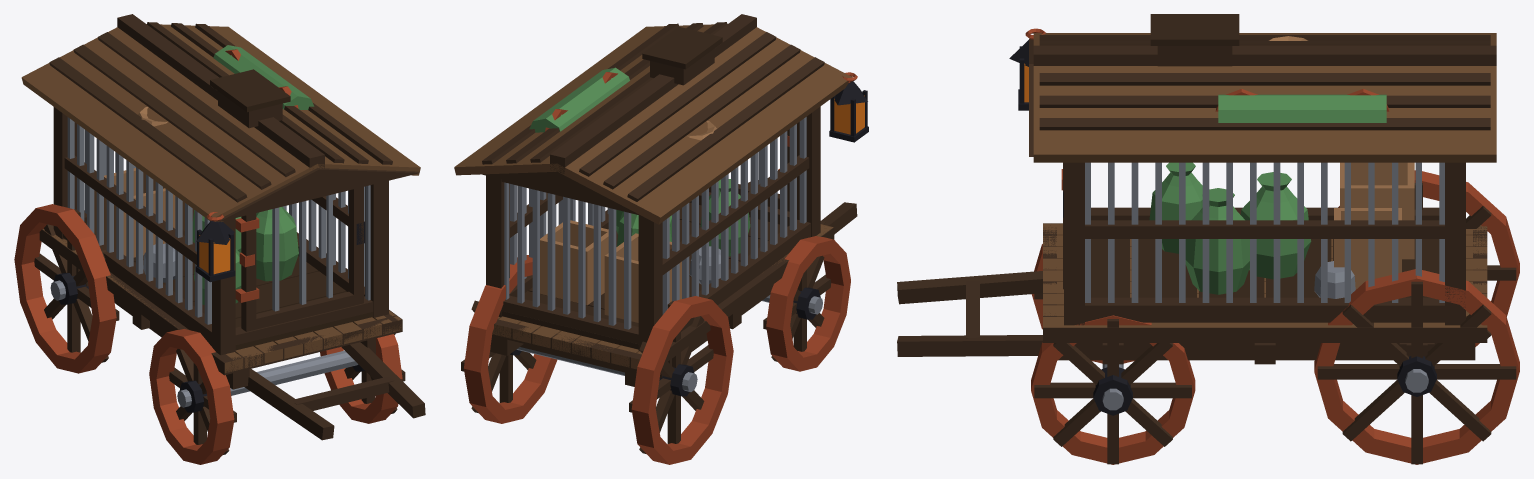
The model's file is wagon.glb.
3 renders of one model, left to right at view 1: azimuth 30°, elevation 25°; view 2: azimuth 150°, elevation 25°; view 3: azimuth 270°, elevation 25°, orthographic. The views are drawn at different scales.
Visible parts, largest first — view 1: cagewagon.cage.roof.panels, cagewagon.wheels.tyres, cagewagon.cage.frame.timber, cagewagon.cage.bars, cagewagon.cage.roof.battens, cagewagon.shafts.poles, cagewagon.cage.door.frame, cagewagon.wheels.spokes, cagewagon.chassis.edge, cagewagon.cage.roof.ridge, cagewagon.cage.floor, cagewagon.cage.roof.gables (+13 smaller); view 2: cagewagon.cage.roof.panels, cagewagon.wheels.tyres, cagewagon.cage.bars, cagewagon.cage.frame.timber, cagewagon.cage.roof.battens, cagewagon.wheels.spokes, cagewagon.clutter.crates, cagewagon.cage.roof.ridge, cagewagon.chassis.edge, cagewagon.chassis.bed, cagewagon.clutter.tarp, cagewagon.cage.floor (+10 smaller); view 3: cagewagon.cage.roof.panels, cagewagon.cage.frame.timber, cagewagon.wheels.tyres, cagewagon.cage.roof.battens, cagewagon.wheels.spokes, cagewagon.cage.bars, cagewagon.clutter.sacks, cagewagon.cage.roof.ridge, cagewagon.chassis.edge, cagewagon.shafts.poles, cagewagon.cage.floor, cagewagon.clutter.crates (+9 smaller).
Part boxes in pixels (x1=…): cagewagon.cage.roof.panels: x1=21, y1=24, x2=420, y2=221; cagewagon.wheels.tyres: x1=14, y1=204, x2=402, y2=464; cagewagon.cage.frame.timber: x1=53, y1=107, x2=388, y2=355; cagewagon.cage.bars: x1=67, y1=117, x2=370, y2=324; cagewagon.cage.roof.battens: x1=49, y1=22, x2=392, y2=202; cagewagon.shafts.poles: x1=244, y1=342, x2=425, y2=440; cagewagon.cage.door.frame: x1=241, y1=187, x2=363, y2=331; cagewagon.wheels.spokes: x1=34, y1=209, x2=405, y2=454; cagewagon.chassis.edge: x1=39, y1=229, x2=402, y2=375; cagewagon.cage.roof.ridge: x1=117, y1=14, x2=324, y2=168; cagewagon.cage.floor: x1=133, y1=230, x2=373, y2=350; cagewagon.cage.roof.gables: x1=217, y1=168, x2=419, y2=222; cagewagon.cage.roof.panels: x1=454, y1=24, x2=852, y2=224; cagewagon.wheels.tyres: x1=464, y1=236, x2=850, y2=464; cagewagon.cage.bars: x1=504, y1=117, x2=806, y2=329; cagewagon.cage.frame.timber: x1=486, y1=106, x2=820, y2=350; cagewagon.cage.roof.battens: x1=482, y1=22, x2=824, y2=201; cagewagon.wheels.spokes: x1=461, y1=255, x2=831, y2=453; cagewagon.clutter.crates: x1=540, y1=220, x2=681, y2=322; cagewagon.cage.roof.ridge: x1=550, y1=14, x2=756, y2=173; cagewagon.chassis.edge: x1=492, y1=226, x2=834, y2=370; cagewagon.chassis.bed: x1=492, y1=224, x2=833, y2=369; cagewagon.clutter.tarp: x1=529, y1=67, x2=629, y2=132; cagewagon.cage.floor: x1=501, y1=202, x2=787, y2=349; cagewagon.cage.roof.panels: x1=1033, y1=33, x2=1496, y2=162; cagewagon.cage.frame.timber: x1=1064, y1=162, x2=1465, y2=325; cagewagon.wheels.tyres: x1=1031, y1=170, x2=1519, y2=464; cagewagon.cage.roof.battens: x1=1039, y1=35, x2=1490, y2=130; cagewagon.wheels.spokes: x1=1034, y1=183, x2=1516, y2=464; cagewagon.cage.bars: x1=1085, y1=162, x2=1444, y2=302; cagewagon.clutter.sacks: x1=1149, y1=162, x2=1311, y2=294; cagewagon.cage.roof.ridge: x1=1033, y1=45, x2=1496, y2=65; cagewagon.chassis.edge: x1=1043, y1=223, x2=1487, y2=342; cagewagon.shafts.poles: x1=897, y1=271, x2=1042, y2=356; cagewagon.cage.floor: x1=1091, y1=239, x2=1439, y2=297; cagewagon.clutter.crates: x1=1334, y1=162, x2=1414, y2=289.
Size of the model in its own units: 1.33 by 1.84 by 2.66.
